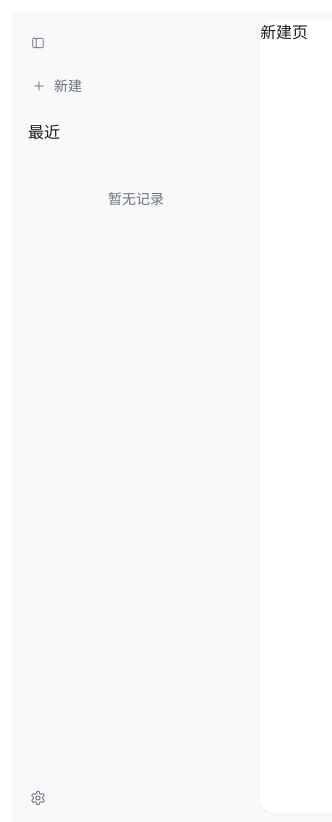
Test case: Home 布局 › 设置按钮进入主题设置页
Click the button named "设置" at (38, 798), box [24, 784, 52, 812]
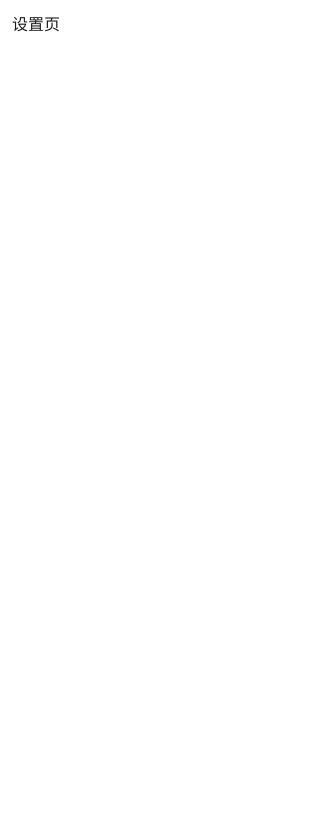
Now the text "设置页" is shown, box [12, 14, 60, 34]
